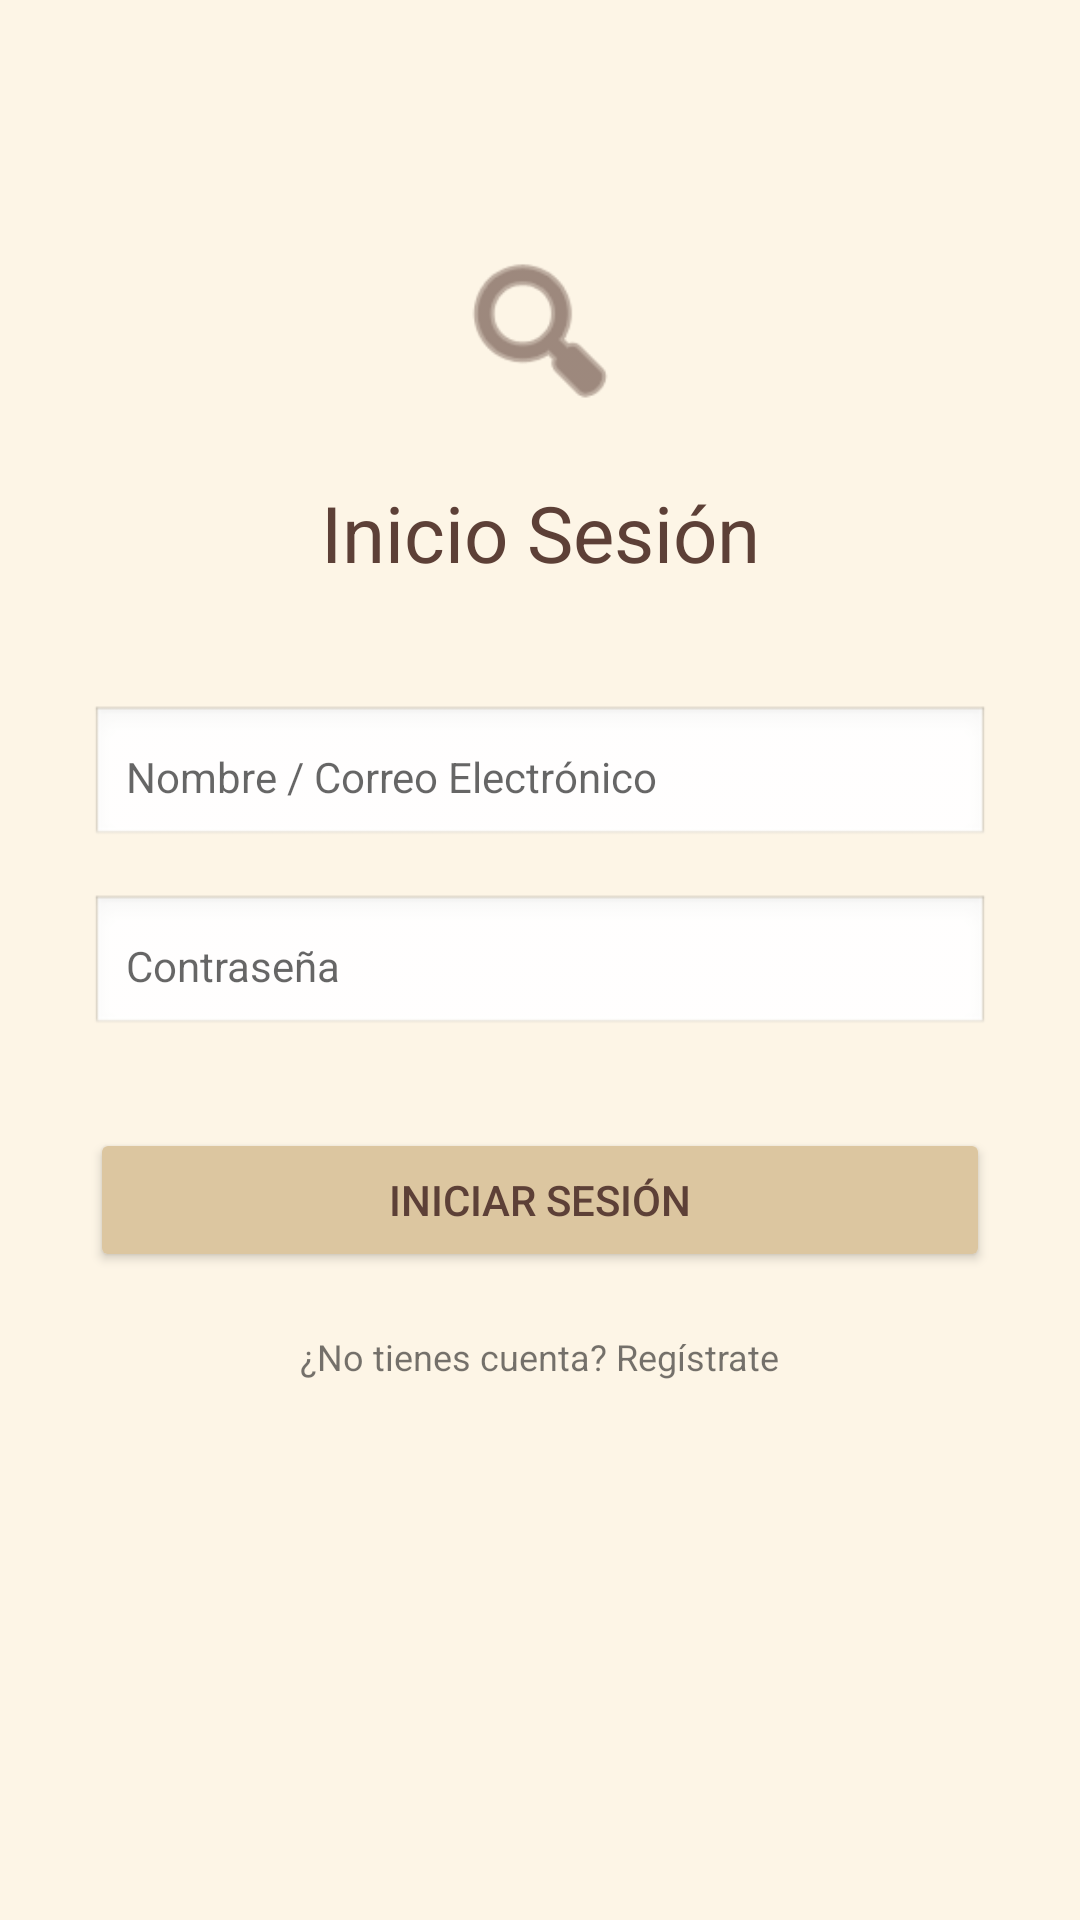

Screen size 1080 × 1920. Icon name, then its box in pixels as {"left": x1, "top": y1, "right": x2, "bottom": y2}:
search: {"left": 474, "top": 264, "right": 606, "bottom": 398}
